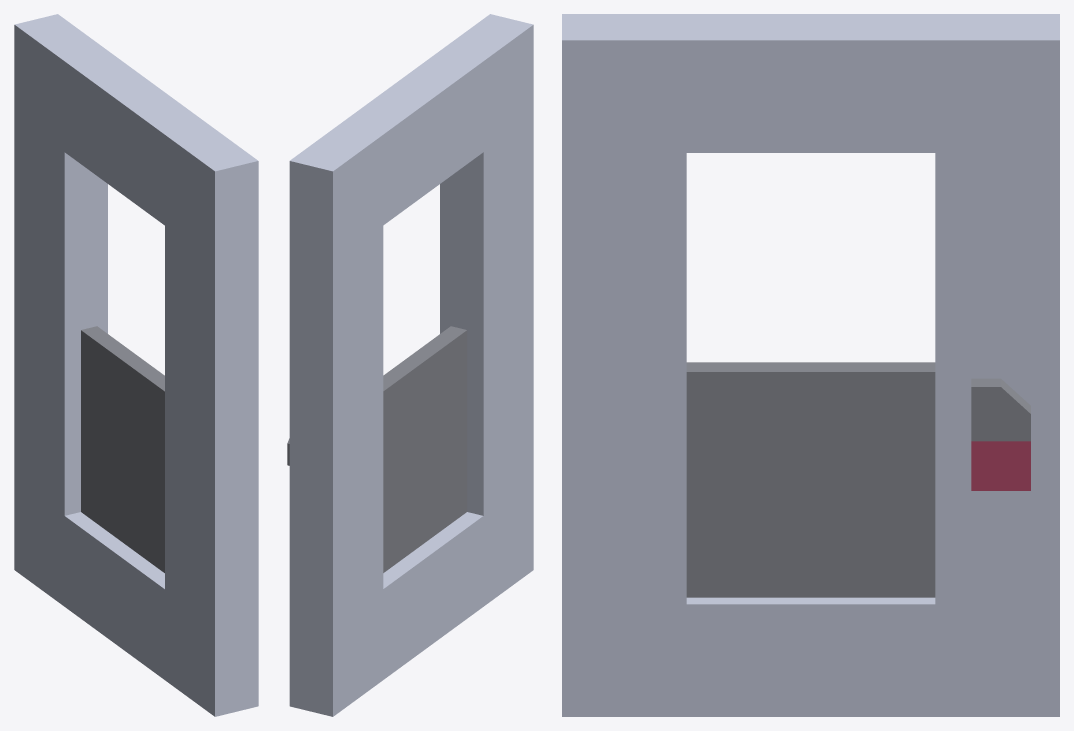
The model's file is spaceInterior_059.obj.
3 renders of one model, left to right at view 1: azimuth 30°, elevation 25°; view 2: azimuth 150°, elevation 25°; view 3: azimuth 270°, elevation 25°, orthographic. The views are drawn at different scales.
Parts seen in each view (by area): view 1: Mesh1 Group1 Model; view 2: Mesh1 Group1 Model; view 3: Mesh1 Group1 Model.
Boxes of the visible parts, <box> form: Mesh1 Group1 Model: <box>14,14,258,716</box>; Mesh1 Group1 Model: <box>287,14,533,716</box>; Mesh1 Group1 Model: <box>562,14,1059,716</box>.
Size of the model in its own units: 0.0825 by 0.75 by 0.5.
